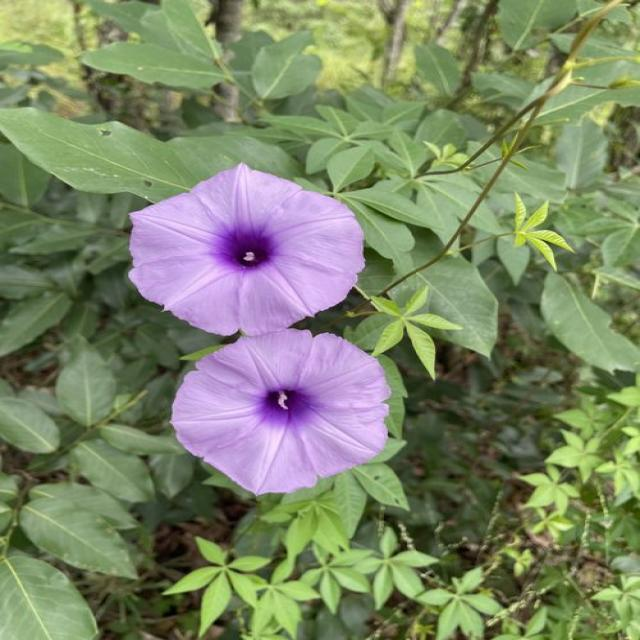ipomoea: (119, 158, 401, 498), (123, 160, 369, 338), (166, 327, 394, 497)
